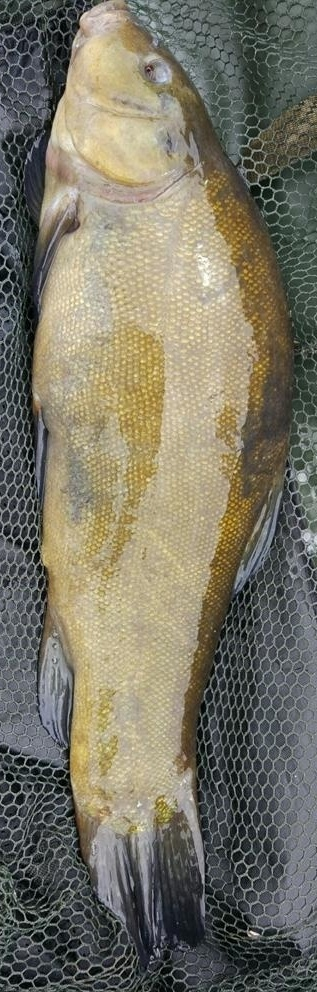Tinca tinca: (20, 1, 297, 972)
